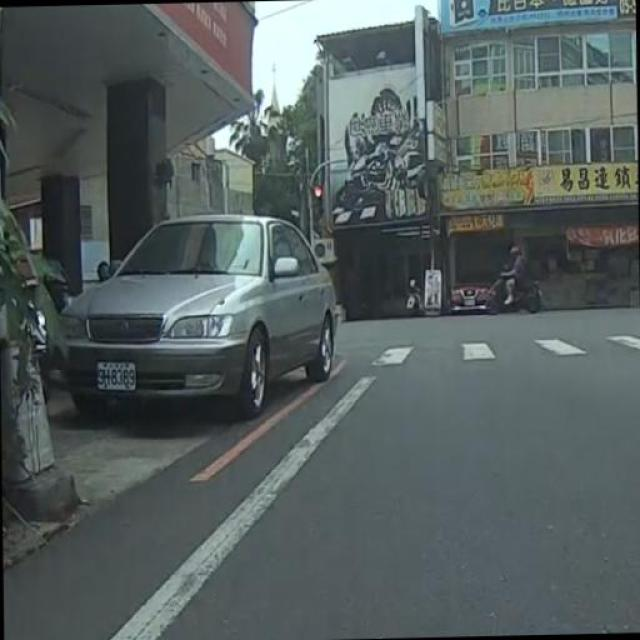illegalparking: (44, 192, 351, 446)
